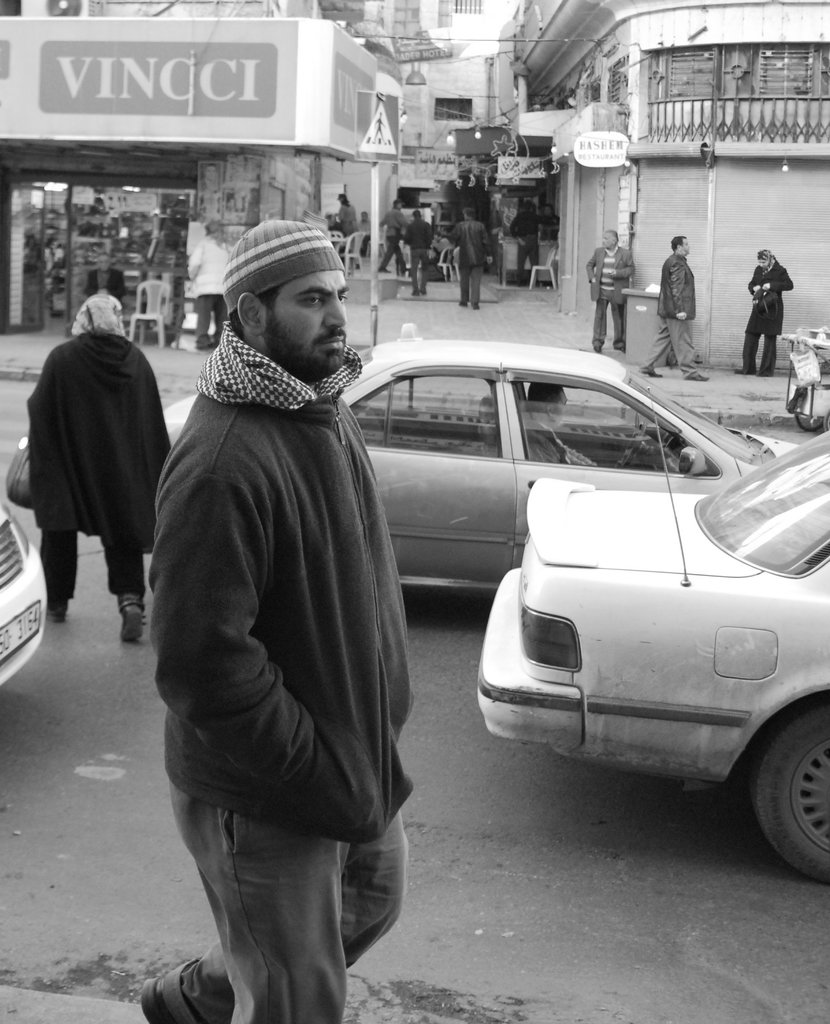Car: (457, 417, 829, 860), (160, 336, 790, 592), (0, 487, 55, 693)
